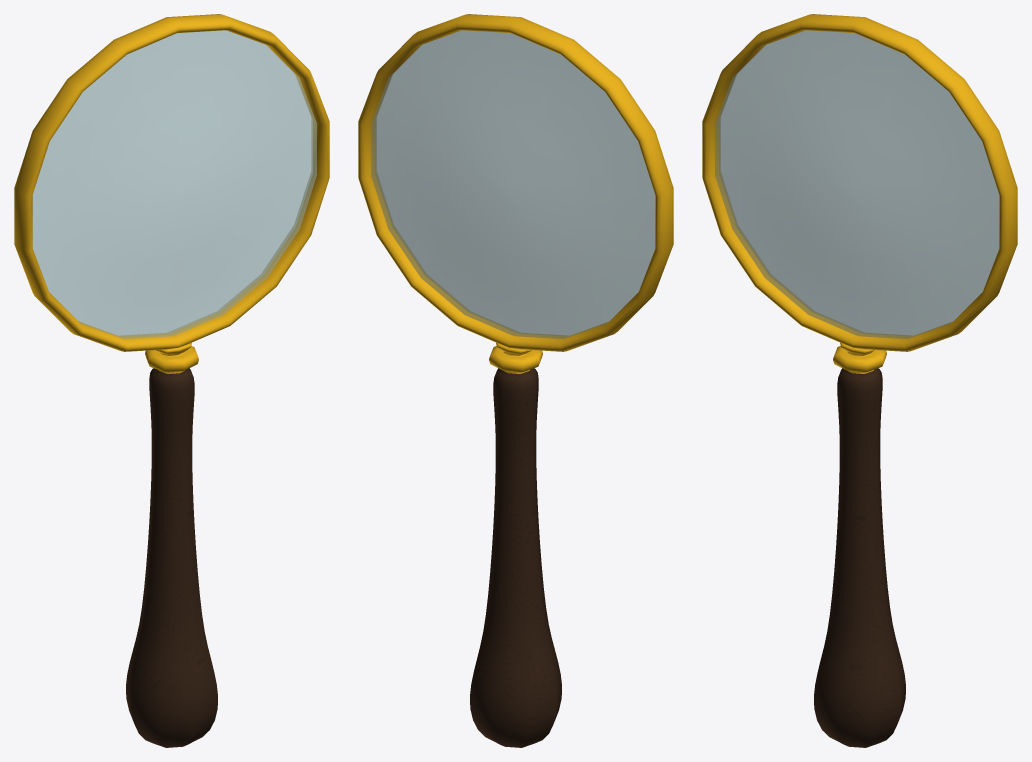
The model's file is Lupa.fbx.
3 views of the same model, side by side, from view 1: azimuth 30°, elevation 25°; view 2: azimuth 150°, elevation 25°; view 3: azimuth 330°, elevation 25° (orthographic).
Visible parts, largest first — view 1: Lupa.001, Lupa; view 2: Lupa.001, Lupa; view 3: Lupa.001, Lupa.
Boxes of the visible parts, x1,y1,x2,y2 form: Lupa.001: (32,30,316,339); Lupa: (14,14,329,747); Lupa.001: (371,30,655,339); Lupa: (358,14,673,747); Lupa.001: (715,30,999,339); Lupa: (702,14,1017,747).
Size of the model in its own units: 79.67 by 179 by 20.83.
